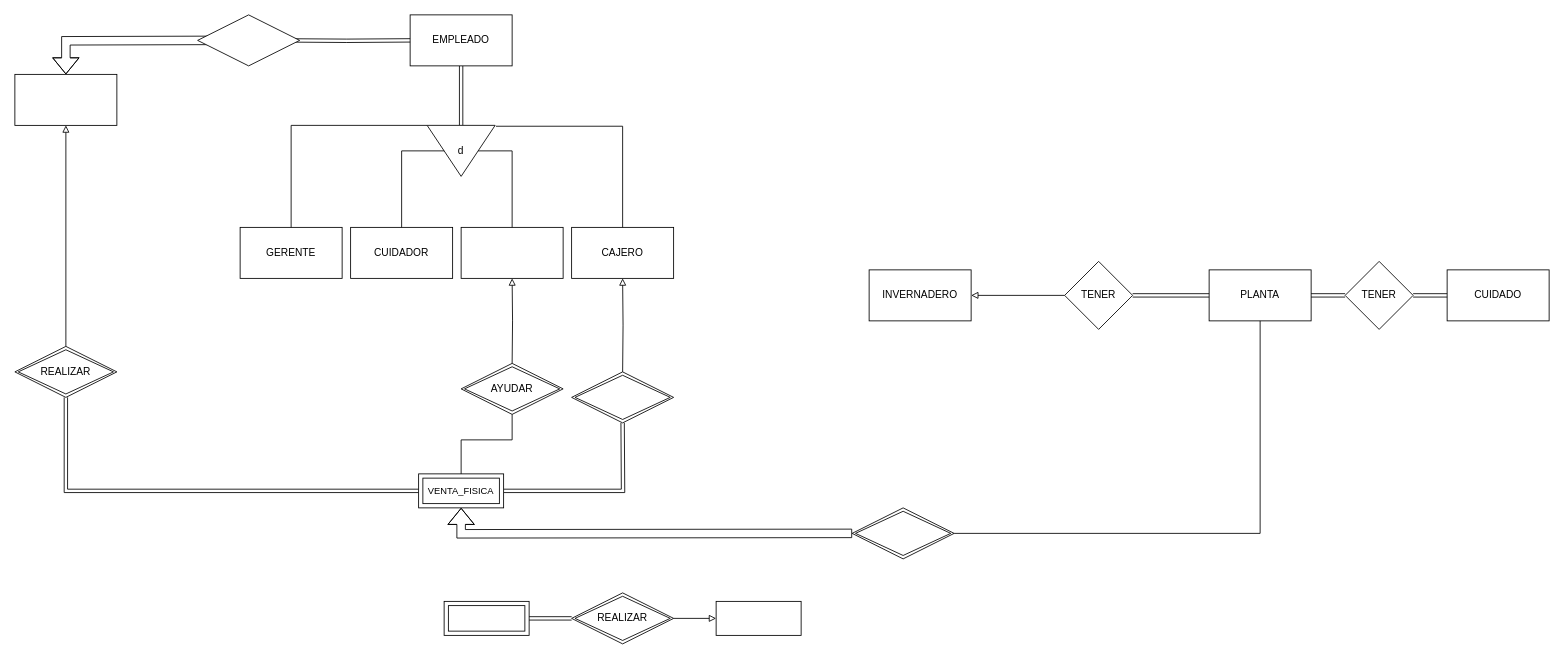
Some shapes in this 1564 by 659 pixel diagram are drawn without their labels. Here are the shapes that lost their labels. From the top down, the centre of each, then its label:
At (248,40): "TRABAJAR".
At (65,99): "VIVERO".
At (511,252): "MOSTRADOR".
At (622,397): "EFECTUAR".
At (902,533): "CONTENER".
At (486,618): "VENTA_ONLINE".
At (758,618): "CLIENTE".
